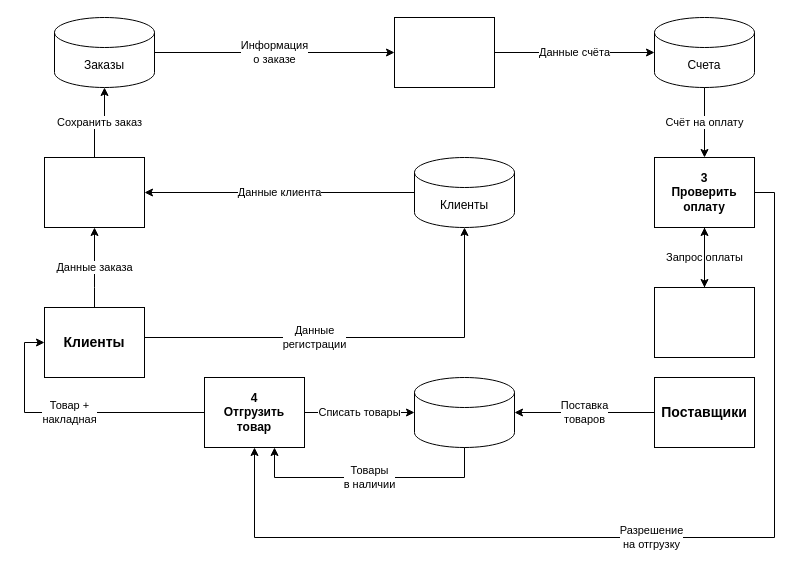
Some shapes in this 800 by 568 pixel diagram are drawn without their labels. The centre of each missing label's shape, as x and y in pixels:
1 Оформить заказ: the point at 94,192
2 Выставить счёт: the point at 444,52
Банк: the point at 704,322
Склад (Товары): the point at 464,412
